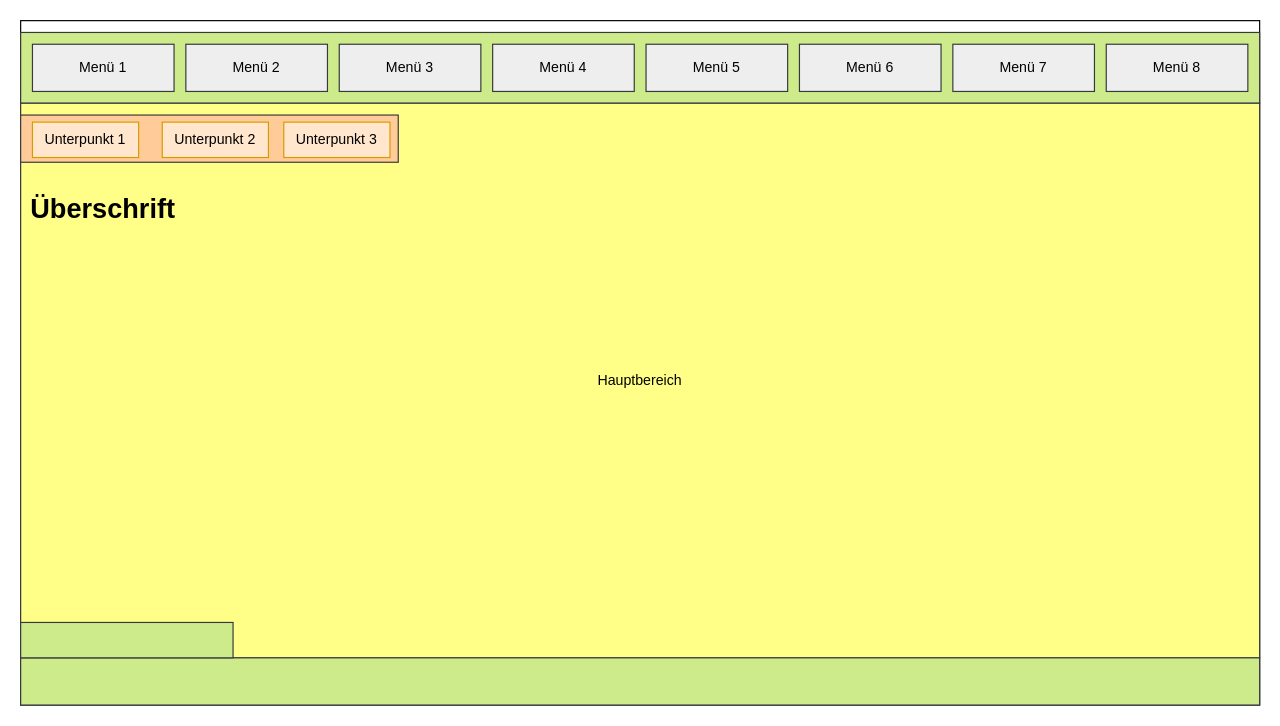
Image size: 1280x726. Some labels were removed from this diagram. Each missing label, with the centre of its shape:
Auswahl: point (126, 639)
Fußbereich: point (639, 681)
